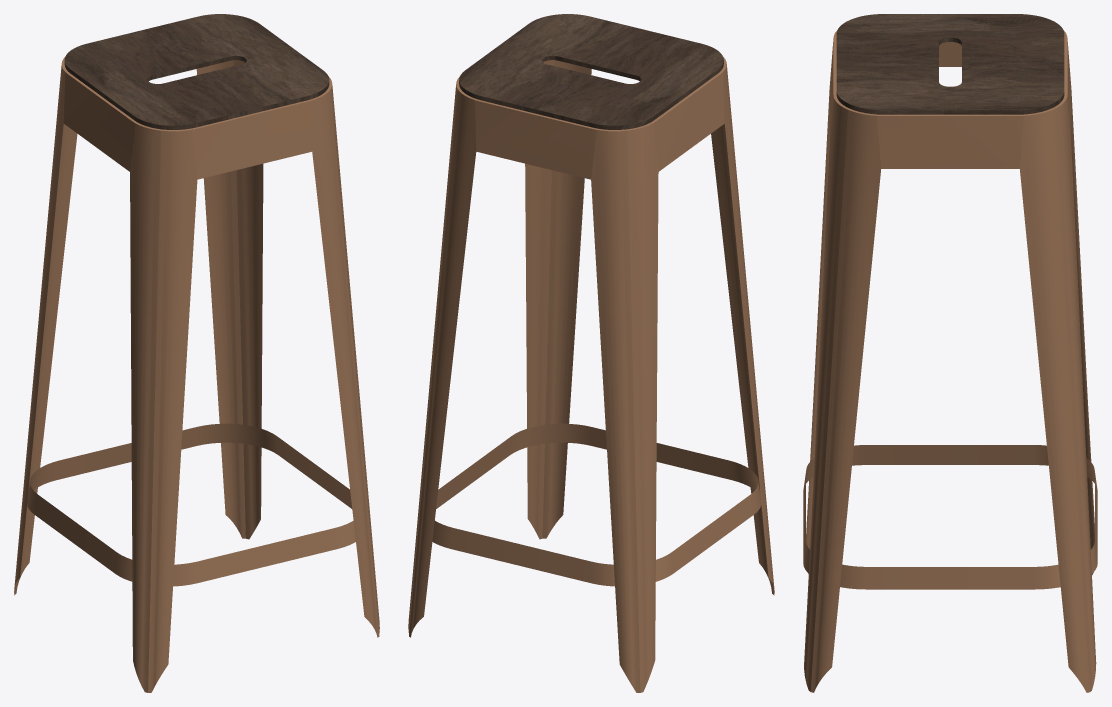
3 views of the same model, side by side, from view 1: azimuth 30°, elevation 25°; view 2: azimuth 150°, elevation 25°; view 3: azimuth 270°, elevation 25° (orthographic). The views are drawn at different scales.
Parts seen in each view (by area): view 1: instance_2_6, SketchUp.001_10, instance_1_5, group_0_3, instance_0_4, SketchUp.002_11, instance_3_7; view 2: instance_3_7, SketchUp.001_10, instance_0_4, group_0_3, instance_1_5, SketchUp.002_11, instance_2_6; view 3: instance_0_4, instance_1_5, SketchUp.001_10, group_0_3, SketchUp.002_11, instance_3_7, instance_2_6.
Part boxes in pixels (x1,y1,x2,y2): instance_2_6: (130, 124, 197, 692); SketchUp.001_10: (64, 14, 329, 129); instance_1_5: (196, 60, 263, 539); group_0_3: (27, 423, 355, 586); instance_0_4: (312, 85, 379, 637); SketchUp.002_11: (61, 56, 332, 179); instance_3_7: (14, 65, 77, 595); instance_3_7: (591, 123, 658, 692); SketchUp.001_10: (459, 14, 723, 129); instance_0_4: (525, 60, 591, 539); group_0_3: (432, 423, 761, 586); instance_1_5: (408, 84, 476, 637); SketchUp.002_11: (456, 56, 726, 179); instance_2_6: (711, 64, 774, 595); instance_0_4: (804, 98, 880, 692); instance_1_5: (1020, 98, 1096, 692); SketchUp.001_10: (836, 14, 1064, 114); group_0_3: (803, 445, 1097, 589); SketchUp.002_11: (829, 30, 1071, 168); instance_3_7: (1071, 90, 1094, 574); instance_2_6: (806, 90, 829, 549).
Bounding box in the file's own units: 0.3553 × 0.76 × 0.3553.
2 materials, 2 textured.
